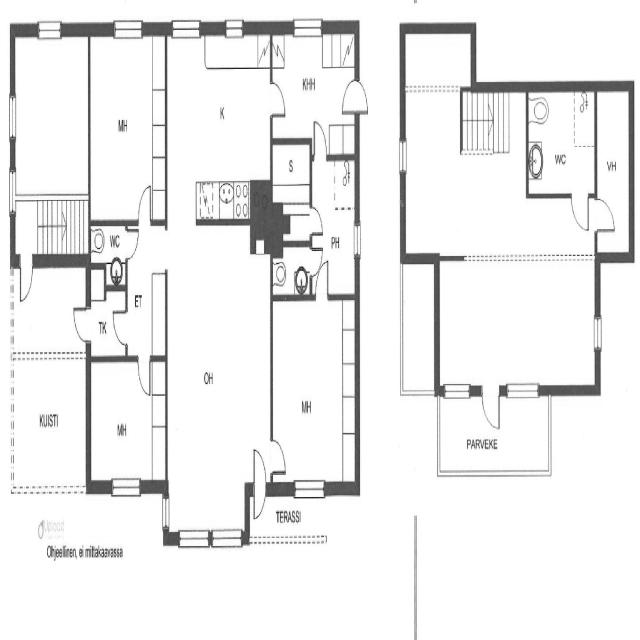door: (252, 440, 268, 520), (340, 74, 366, 119), (481, 380, 500, 432), (595, 193, 616, 238), (268, 74, 288, 120), (268, 433, 288, 477), (72, 301, 92, 344), (570, 187, 589, 232), (18, 253, 34, 306), (310, 116, 328, 162), (110, 304, 129, 346), (136, 180, 153, 225), (314, 258, 330, 302), (308, 200, 326, 239), (124, 222, 141, 260), (137, 353, 151, 397)
window: (110, 11, 147, 44), (208, 522, 244, 554), (169, 11, 204, 43), (503, 374, 543, 402), (291, 472, 328, 502), (175, 522, 212, 552), (108, 472, 143, 500), (35, 13, 65, 44), (291, 13, 325, 39), (442, 376, 472, 401), (223, 12, 246, 41), (8, 88, 18, 146), (8, 163, 18, 218), (398, 132, 407, 178), (353, 218, 362, 263), (593, 309, 602, 354), (162, 490, 171, 534)
zone: (164, 222, 270, 537), (436, 257, 598, 390), (164, 27, 272, 219), (11, 29, 90, 256), (270, 296, 358, 486), (404, 30, 472, 256), (89, 31, 166, 223), (269, 31, 357, 150), (89, 359, 166, 484), (527, 87, 599, 194), (313, 150, 357, 294), (596, 84, 630, 260), (126, 222, 167, 358), (272, 141, 312, 237), (87, 271, 127, 358), (270, 242, 314, 296), (89, 220, 128, 268)
